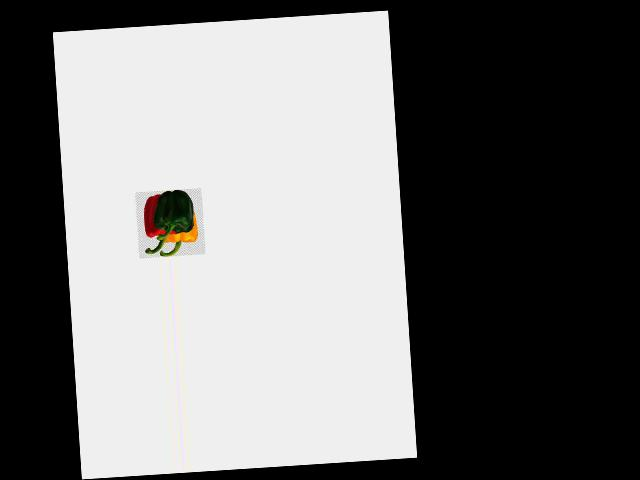bell_pepper: (134, 192, 176, 256)
